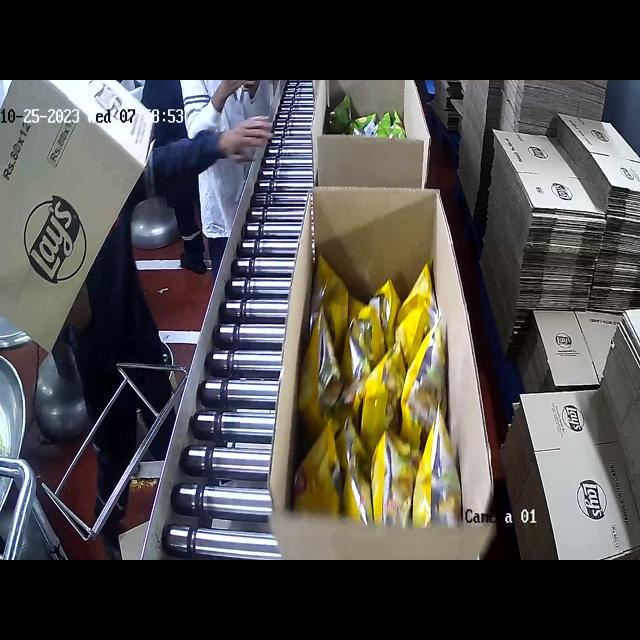salted: (291, 253, 463, 528)
